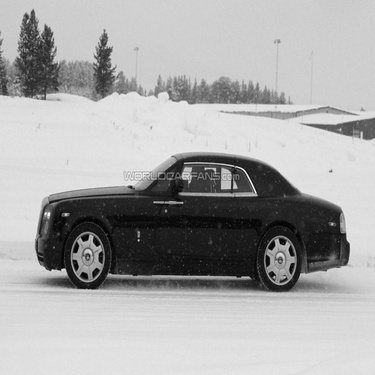car: (27, 144, 354, 298)
